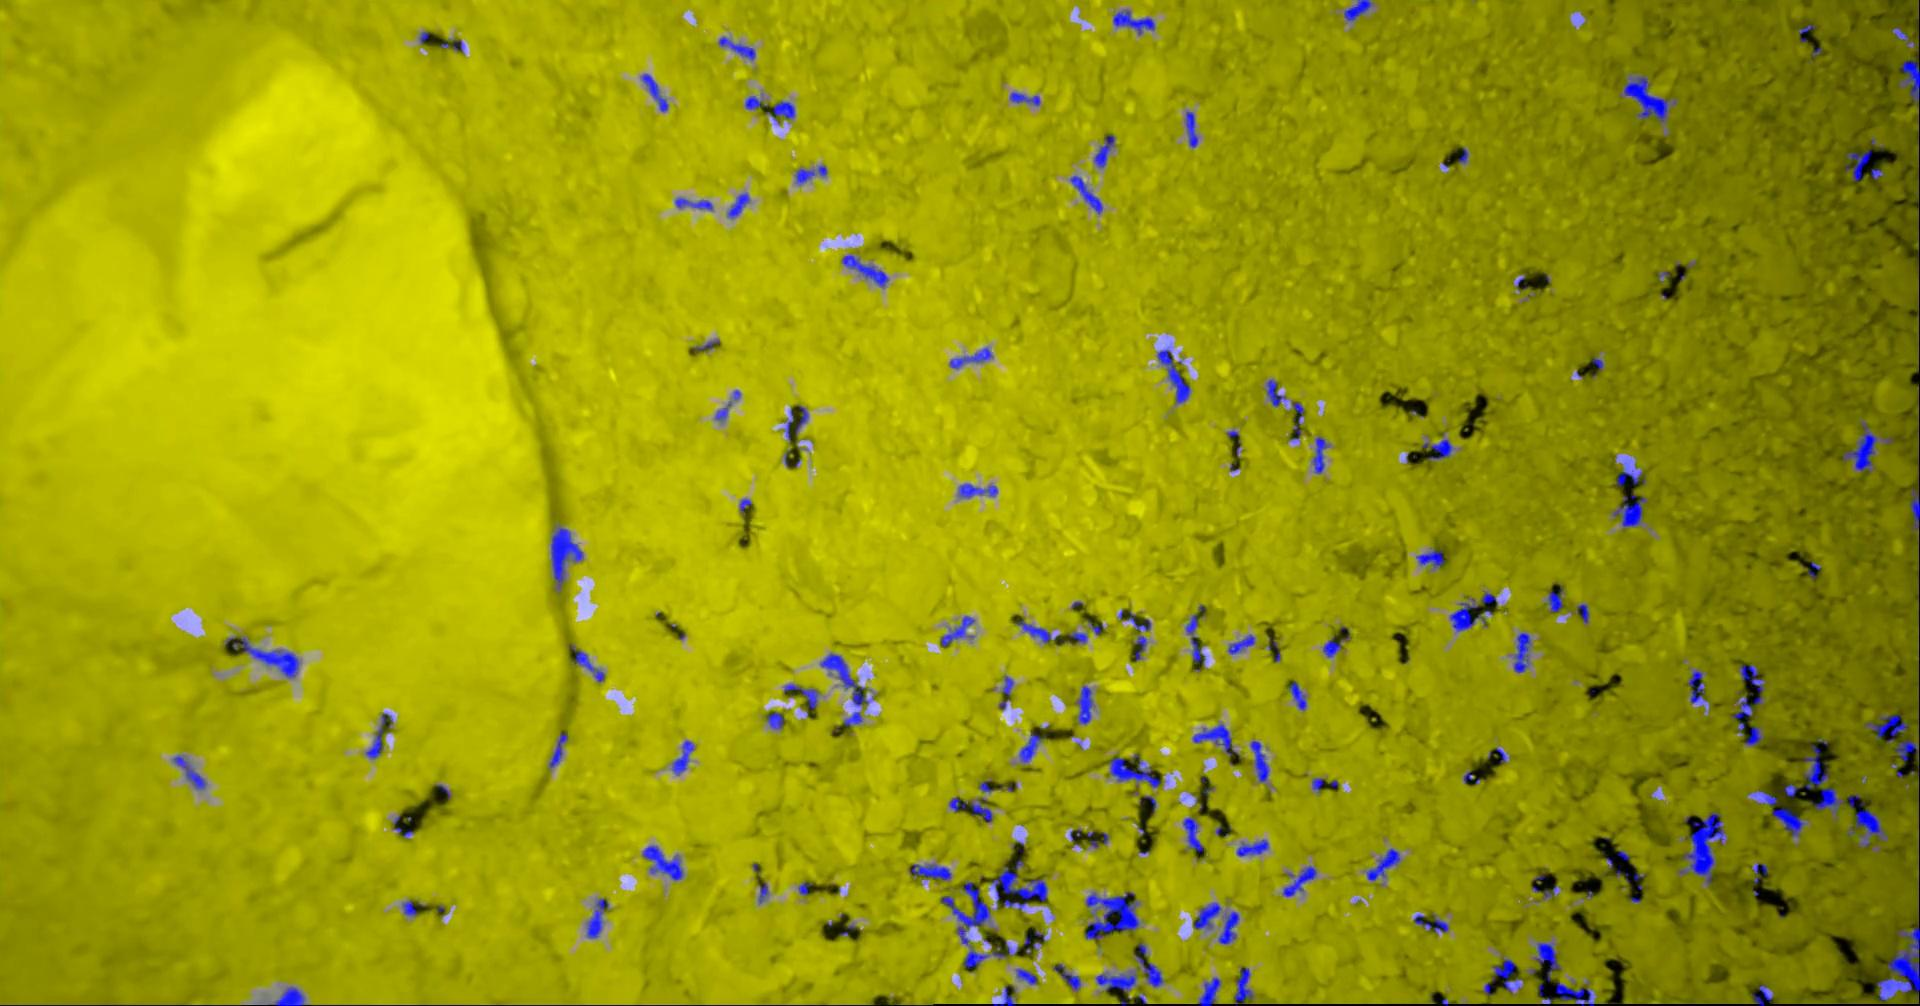ant: (940, 882, 989, 944), (223, 636, 298, 677), (992, 859, 1046, 908), (820, 653, 869, 705), (1623, 75, 1669, 121), (550, 527, 582, 587), (1157, 349, 1189, 403), (1843, 420, 1876, 471), (841, 254, 888, 287), (1192, 723, 1239, 756), (1109, 757, 1159, 788), (1854, 801, 1887, 847), (963, 941, 1018, 967), (643, 845, 682, 880), (569, 644, 604, 681), (364, 713, 392, 758), (1449, 602, 1492, 631), (1069, 175, 1102, 213), (1865, 714, 1907, 743), (1134, 942, 1162, 986), (1185, 605, 1204, 666), (1128, 611, 1150, 661), (949, 796, 992, 822), (1611, 494, 1646, 526), (940, 615, 974, 647), (173, 754, 204, 788), (1366, 848, 1399, 880), (1112, 10, 1154, 34), (1283, 865, 1316, 895), (1491, 958, 1520, 992), (641, 72, 667, 111), (1534, 942, 1559, 981), (1771, 807, 1804, 836), (1015, 619, 1057, 641), (1738, 664, 1763, 704), (949, 347, 992, 368), (1898, 60, 1919, 105), (585, 898, 608, 937), (1554, 982, 1594, 1005), (717, 36, 756, 58), (1731, 696, 1752, 734), (1845, 149, 1870, 180), (1095, 973, 1137, 992), (783, 683, 817, 708), (1250, 741, 1269, 781), (1018, 733, 1045, 761), (1192, 902, 1220, 929), (1421, 434, 1451, 459), (1233, 967, 1252, 1005), (1182, 817, 1203, 852), (672, 741, 693, 774), (1053, 963, 1079, 989), (1512, 633, 1530, 672), (1218, 911, 1239, 942), (549, 732, 568, 767), (1312, 436, 1330, 473), (1077, 686, 1095, 723), (1413, 915, 1448, 934), (908, 864, 950, 879), (1197, 977, 1220, 1005), (268, 987, 303, 1005), (1095, 133, 1114, 166), (1895, 739, 1919, 765), (1688, 669, 1705, 702), (1289, 401, 1304, 439), (1343, 0, 1371, 20), (1891, 25, 1919, 46), (764, 102, 794, 121), (957, 483, 997, 497), (1236, 840, 1269, 856), (1228, 634, 1255, 654), (1266, 379, 1285, 406), (998, 674, 1013, 709), (728, 193, 749, 217), (1910, 770, 1919, 828), (1416, 547, 1443, 567), (795, 165, 825, 182), (1288, 681, 1305, 709), (1185, 111, 1197, 147), (676, 197, 712, 210), (992, 984, 1015, 1005), (1547, 584, 1563, 612), (795, 405, 808, 441), (1617, 470, 1644, 485), (1010, 91, 1039, 105), (1909, 489, 1919, 528), (392, 815, 411, 836), (1752, 984, 1771, 1005), (1743, 727, 1763, 746), (1322, 636, 1340, 657), (1016, 968, 1036, 984), (744, 95, 767, 109), (1797, 24, 1815, 42), (1267, 636, 1280, 661), (766, 711, 783, 728), (1023, 935, 1040, 953), (715, 401, 730, 420), (1757, 790, 1777, 805), (1752, 862, 1768, 882), (1538, 983, 1550, 1005), (842, 711, 861, 725), (403, 901, 422, 915), (439, 39, 462, 51), (1576, 603, 1589, 622), (1807, 561, 1820, 578), (1481, 592, 1497, 605), (797, 882, 811, 895), (1068, 633, 1087, 643), (758, 882, 767, 902), (1310, 779, 1323, 790), (1917, 290, 1919, 368), (1917, 130, 1919, 201)
